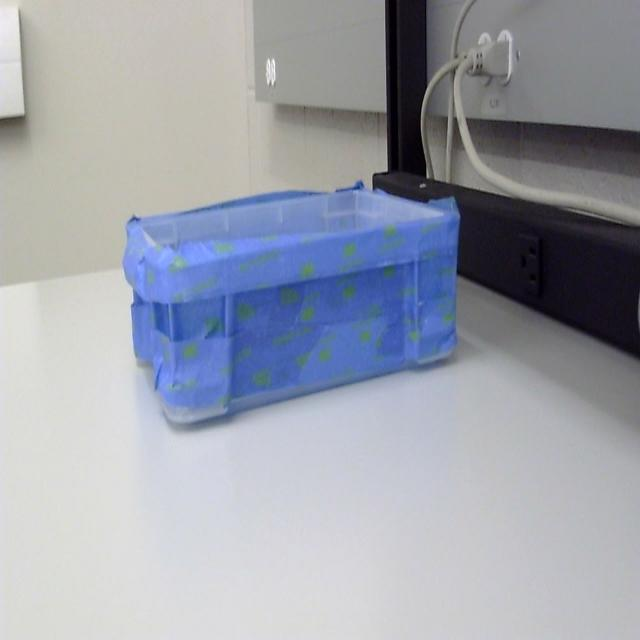bucket: (122, 187, 460, 433)
